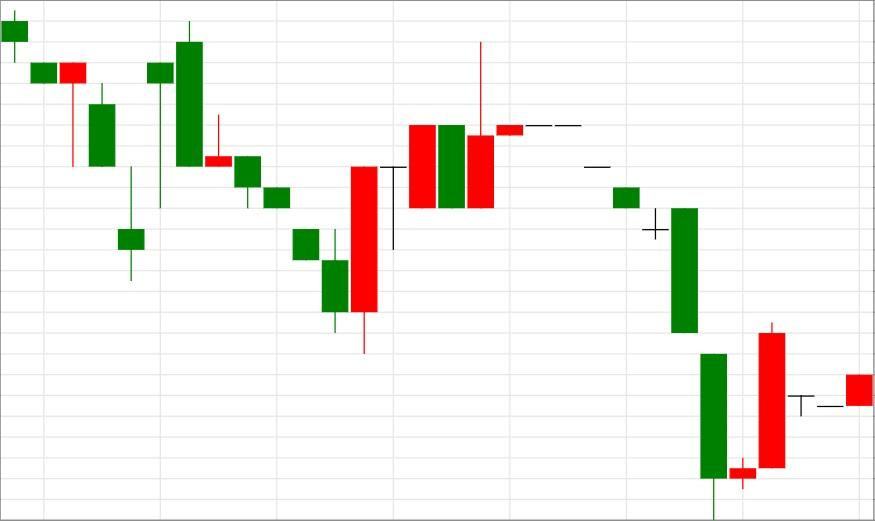bullish_engulfing_rise: (175, 22, 379, 355)
morning_star_rise: (495, 124, 786, 521)
